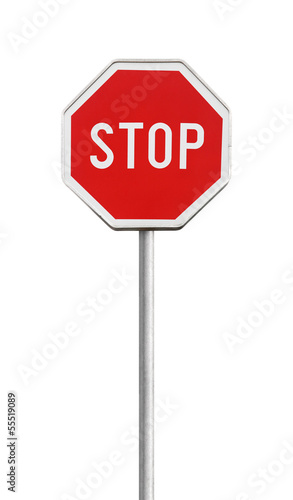StopSign: (60, 59, 231, 229)
